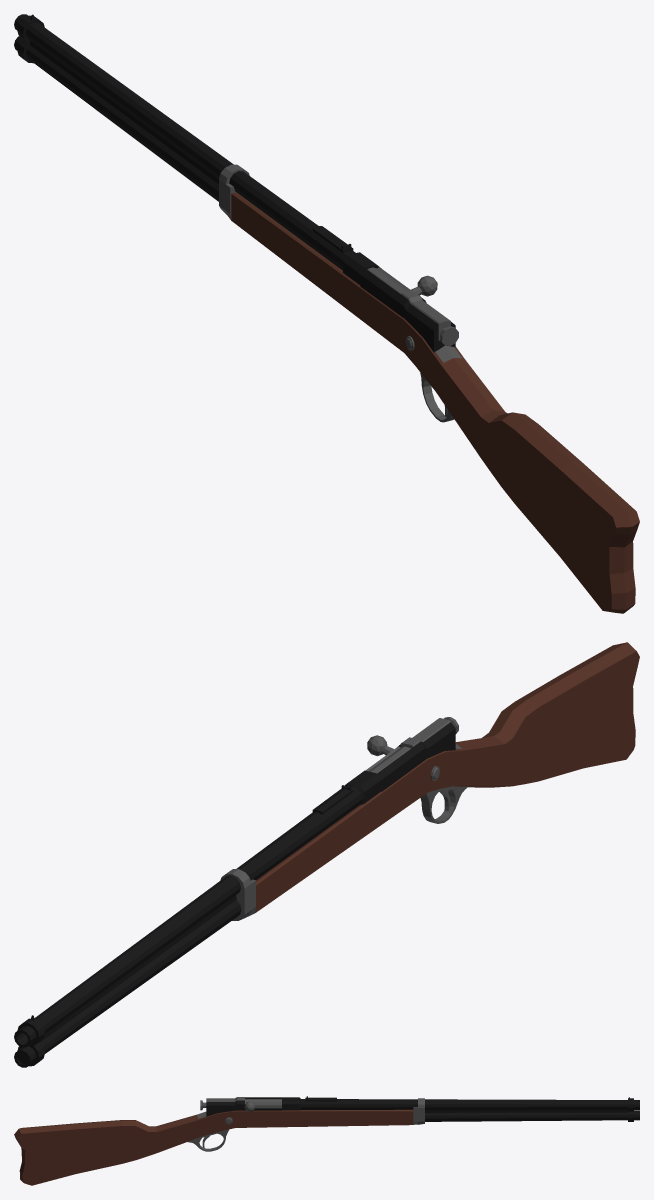
Rendered from Bolt Action Rfile-2.glb.
3 views of the same model, one above another, from view 1: azimuth 30°, elevation 25°; view 2: azimuth 150°, elevation 25°; view 3: azimuth 270°, elevation 25° (orthographic). The views are drawn at different scales.
Parts seen in each view (by area): view 1: Bolt Action Rfile-2; view 2: Bolt Action Rfile-2; view 3: Bolt Action Rfile-2.
Part boxes in pixels (x1,y1,x2,y2): Bolt Action Rfile-2: (14,14,639,613); Bolt Action Rfile-2: (14,642,639,1067); Bolt Action Rfile-2: (14,1096,639,1185).
Size of the model in its own units: 6.22 by 21.27 by 135.
